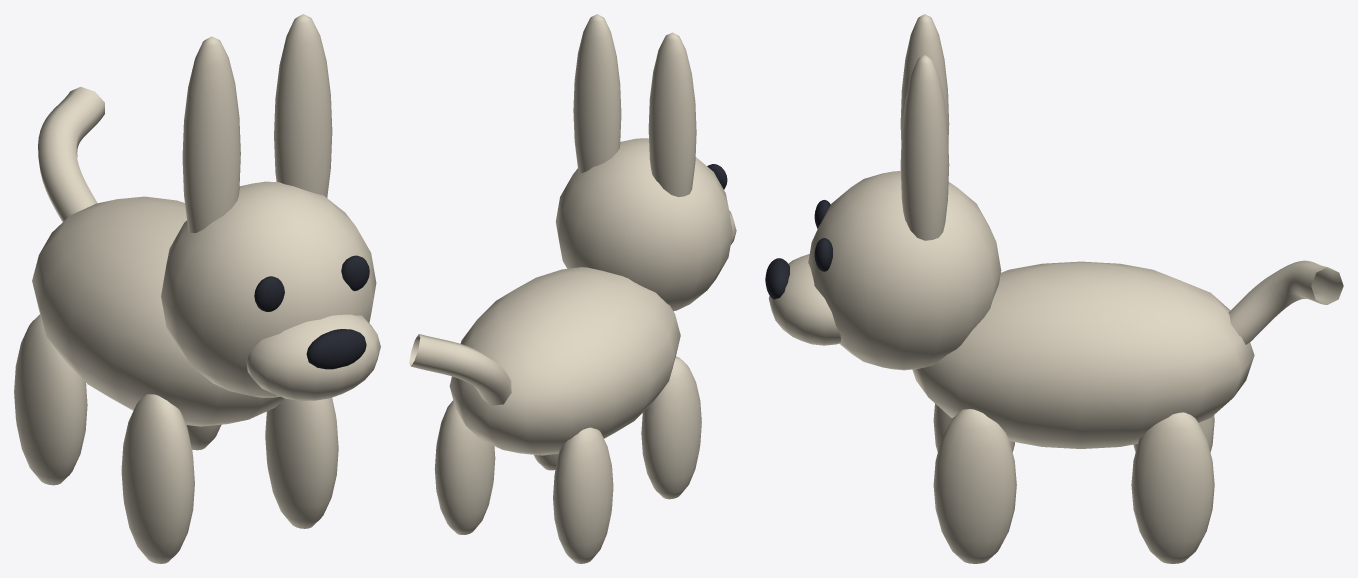
File: word-bunny.glb
The picture shows the model from 3 angles, left to right: view 1: azimuth 30°, elevation 25°; view 2: azimuth 150°, elevation 25°; view 3: azimuth 270°, elevation 25°; orthographic projection. The views are drawn at different scales.
Visible parts, largest first — view 1: round animal body, animal head, little paw, long bunny ear, little paw.001, long bunny ear.001, little paw.002, muzzle, tail, nose, eye, eye.001 (+1 smaller); view 2: round animal body, animal head, little paw.001, long bunny ear, long bunny ear.001, little paw, little paw.003, tail; view 3: round animal body, animal head, little paw.002, little paw.003, long bunny ear.001, tail, muzzle, long bunny ear, nose.
Boxes of the visible parts, x1,y1,x2,y2 form: round animal body: (32,196,284,426); animal head: (161,181,376,397); little paw: (121,394,194,563); long bunny ear: (182,36,240,232); little paw.001: (14,314,87,485); long bunny ear.001: (274,14,332,197); little paw.002: (265,397,338,528); muzzle: (246,314,380,400); tail: (38,86,104,222); nose: (306,329,366,369); eye: (254,276,284,311); eye.001: (341,255,369,291); round animal body: (449,267,680,455); animal head: (555,138,732,311); little paw.001: (553,427,613,563); long bunny ear: (648,32,696,197); long bunny ear.001: (573,14,621,173); little paw: (641,356,701,499); little paw.003: (434,400,495,534); tail: (409,334,511,405); round animal body: (912,261,1254,448); animal head: (808,171,1001,370); little paw.002: (933,409,1016,563); little paw.003: (1131,412,1214,563); long bunny ear.001: (900,55,949,240); tail: (1228,260,1343,344); muzzle: (768,254,840,345); long bunny ear: (900,14,949,143); nose: (765,258,789,299).
Size of the model in its own units: 0.64 by 1.58 by 1.67.
